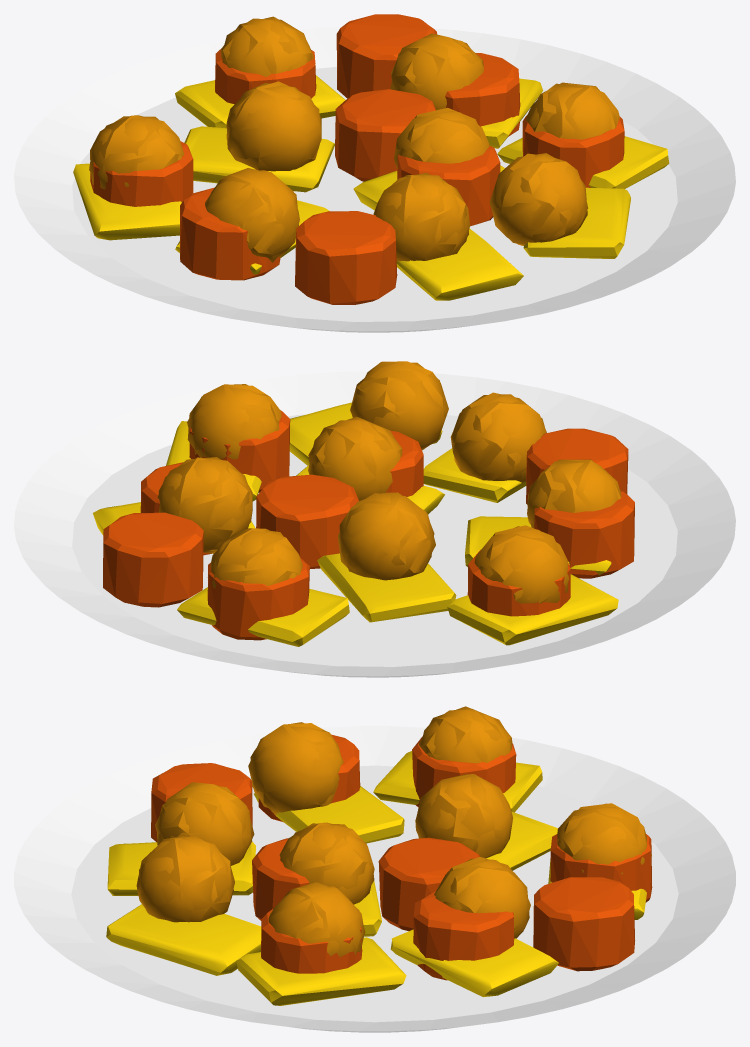
Rendered from complete_triple_snacks.fbx.
3 views of the same model, one above another, from view 1: azimuth 30°, elevation 25°; view 2: azimuth 150°, elevation 25°; view 3: azimuth 270°, elevation 25° (orthographic).
Visible parts, largest first — view 1: complete_plate, bitterbal_03_model, bamihap_01_model, bitterbal_02_model, bitterbal_01_model, kaassoufle_01_model, bamihap_02_model, bamihap_03_model, kaassoufle_03_model, kaassoufle_02_model; view 2: complete_plate, bitterbal_03_model, bamihap_01_model, bitterbal_02_model, bitterbal_01_model, bamihap_03_model, kaassoufle_03_model, kaassoufle_01_model, bamihap_02_model, kaassoufle_02_model; view 3: complete_plate, bitterbal_03_model, bamihap_01_model, bitterbal_02_model, bitterbal_01_model, kaassoufle_01_model, bamihap_02_model, kaassoufle_02_model, bamihap_03_model, kaassoufle_03_model.
Boxes of the visible parts, <box> form: complete_plate: <box>14,27,735,332</box>; bitterbal_03_model: <box>226,81,587,261</box>; bamihap_01_model: <box>295,14,437,304</box>; bitterbal_02_model: <box>205,33,489,262</box>; bitterbal_01_model: <box>89,16,619,189</box>; kaassoufle_01_model: <box>184,126,630,300</box>; bamihap_02_model: <box>180,53,520,280</box>; bamihap_03_model: <box>90,48,624,206</box>; kaassoufle_03_model: <box>73,75,669,240</box>; kaassoufle_02_model: <box>175,78,542,274</box>; complete_plate: <box>14,371,735,677</box>; bitterbal_03_model: <box>337,361,546,580</box>; bamihap_01_model: <box>103,428,628,607</box>; bitterbal_02_model: <box>157,416,621,553</box>; bitterbal_01_model: <box>187,384,568,603</box>; bamihap_03_model: <box>189,410,570,640</box>; kaassoufle_03_model: <box>166,421,618,646</box>; kaassoufle_01_model: <box>289,402,526,622</box>; bamihap_02_model: <box>140,430,634,578</box>; kaassoufle_02_model: <box>93,465,611,575</box>; complete_plate: <box>14,726,735,1032</box>; bitterbal_03_model: <box>136,774,513,922</box>; bamihap_01_model: <box>151,763,635,971</box>; bitterbal_02_model: <box>248,722,530,938</box>; bitterbal_01_model: <box>268,706,647,956</box>; kaassoufle_01_model: <box>106,812,557,975</box>; bamihap_02_model: <box>252,734,514,980</box>; kaassoufle_02_model: <box>254,786,558,997</box>; bamihap_03_model: <box>261,736,652,973</box>; kaassoufle_03_model: <box>236,751,651,1005</box>.
Size of the model in its own units: 56.9 by 56.9 by 9.18.
